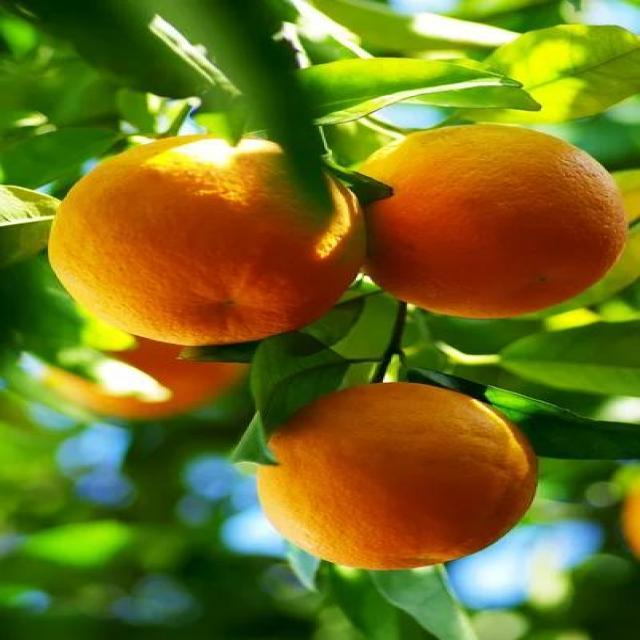Jeruk Sudah Matang: (52, 134, 368, 346), (255, 376, 546, 573), (354, 124, 628, 314), (40, 316, 264, 426), (621, 468, 640, 558)
